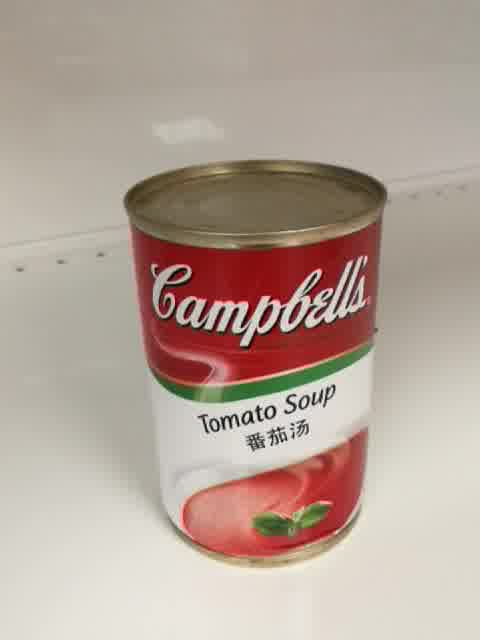tomatosoup: (122, 157, 389, 569)
